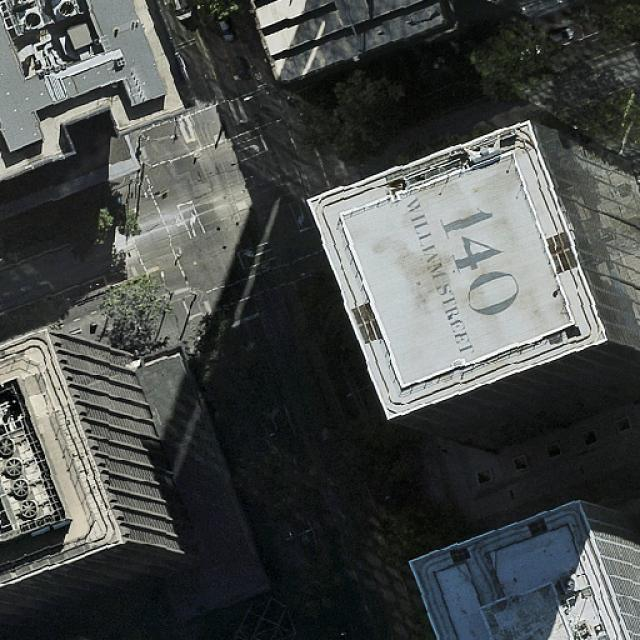Bike-Symbols: (172, 214, 184, 228), (242, 249, 255, 258), (254, 70, 264, 81)
